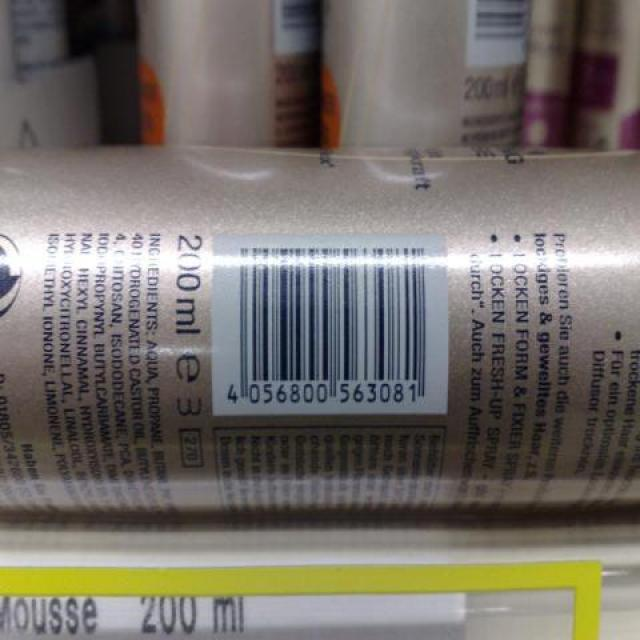Barcode: (212, 236, 449, 415)
